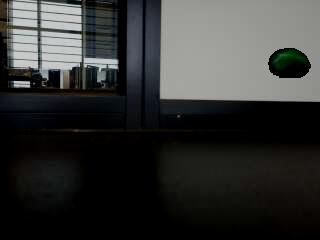Lime: (267, 47, 312, 79)
